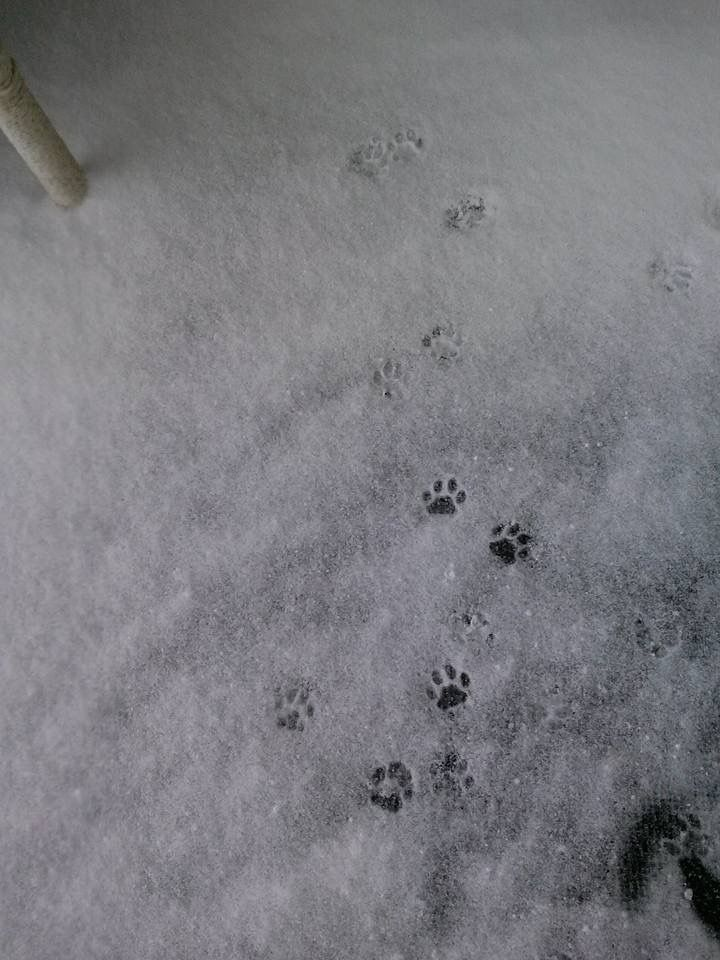cat: (354, 758, 421, 820), (416, 659, 473, 725), (485, 517, 544, 572), (263, 686, 320, 738), (414, 478, 471, 529)
